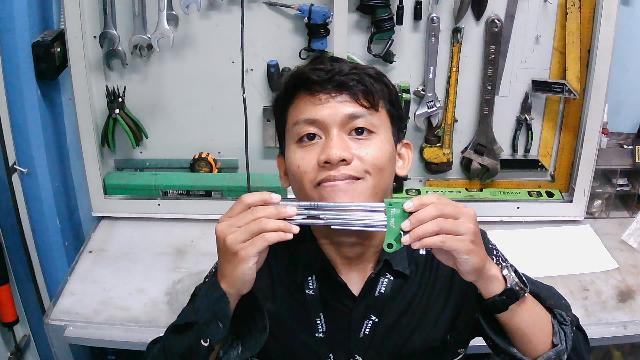kunci_l_bintang: (253, 191, 427, 254)
